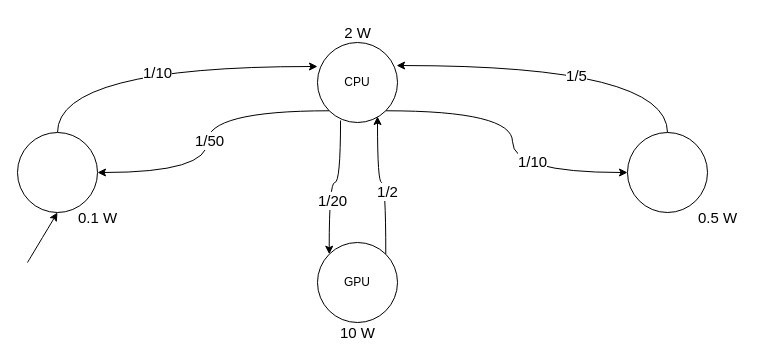
Image size: 765x364. Some labels were removed from this diagram. The shapes that lost their labels are listed below. From the top down, each one's centre as x and y in pixels, then its label:
At (57,172): "Idle".
At (667,172): "I/0".
